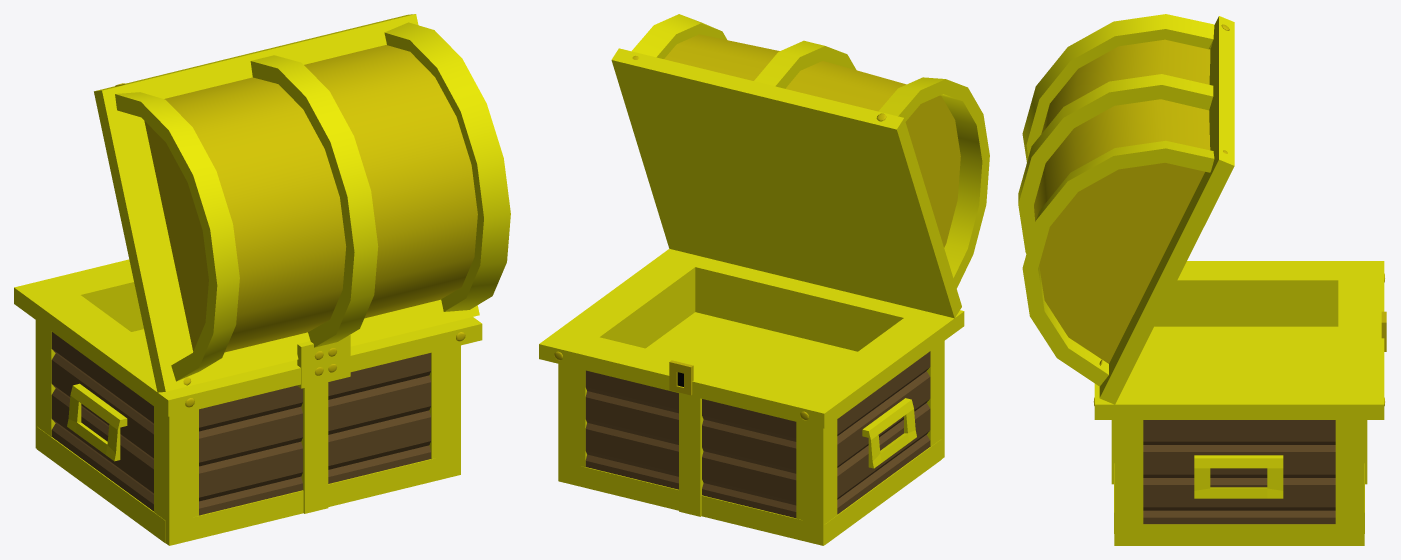
File: opensunduk.fbx
3 renders of one model, left to right at view 1: azimuth 30°, elevation 25°; view 2: azimuth 150°, elevation 25°; view 3: azimuth 270°, elevation 25°, orthographic. The views are drawn at different scales.
Visible parts, largest first — view 1: Icosphere; view 2: Icosphere; view 3: Icosphere.
Part boxes in pixels (left/top/right/bottom): Icosphere: left=14, top=14, right=510, bottom=545; Icosphere: left=539, top=14, right=989, bottom=545; Icosphere: left=1018, top=14, right=1386, bottom=545.
Size of the model in its own units: 279 by 360 by 301.
